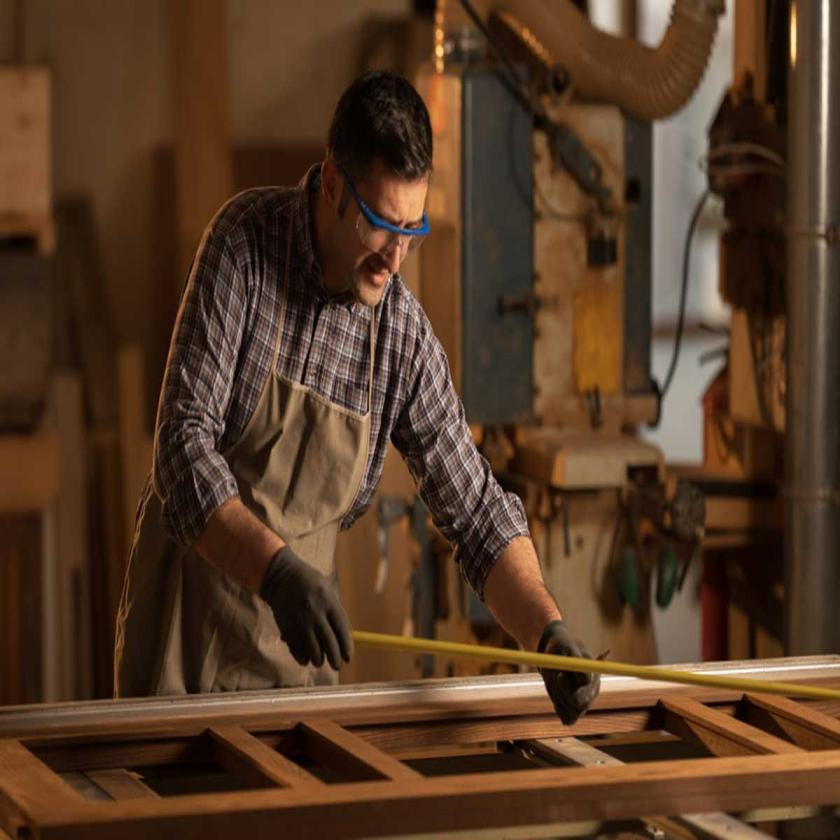Sin_casco: (320, 63, 441, 302)
